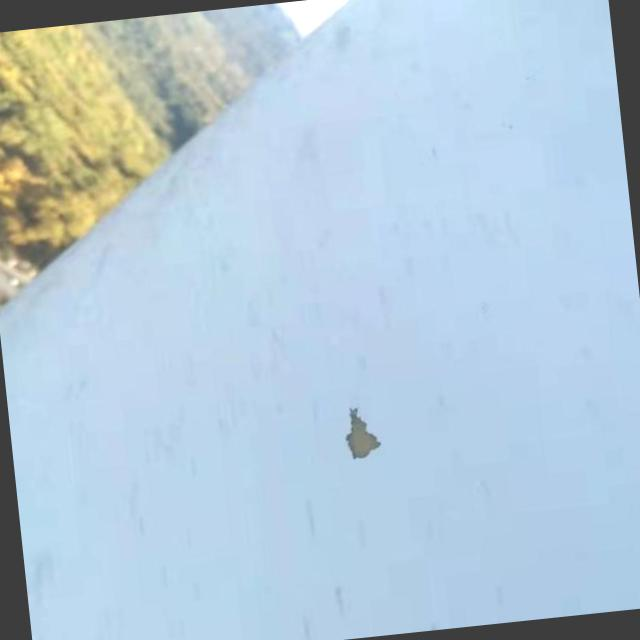surface_peeling: (340, 404, 386, 459)
